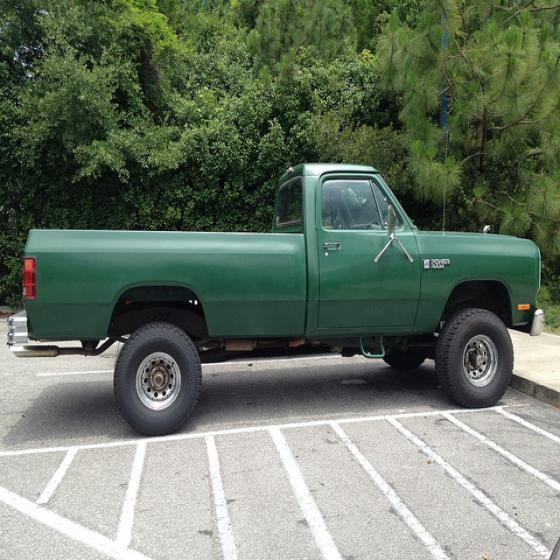truck: (10, 166, 546, 435)
